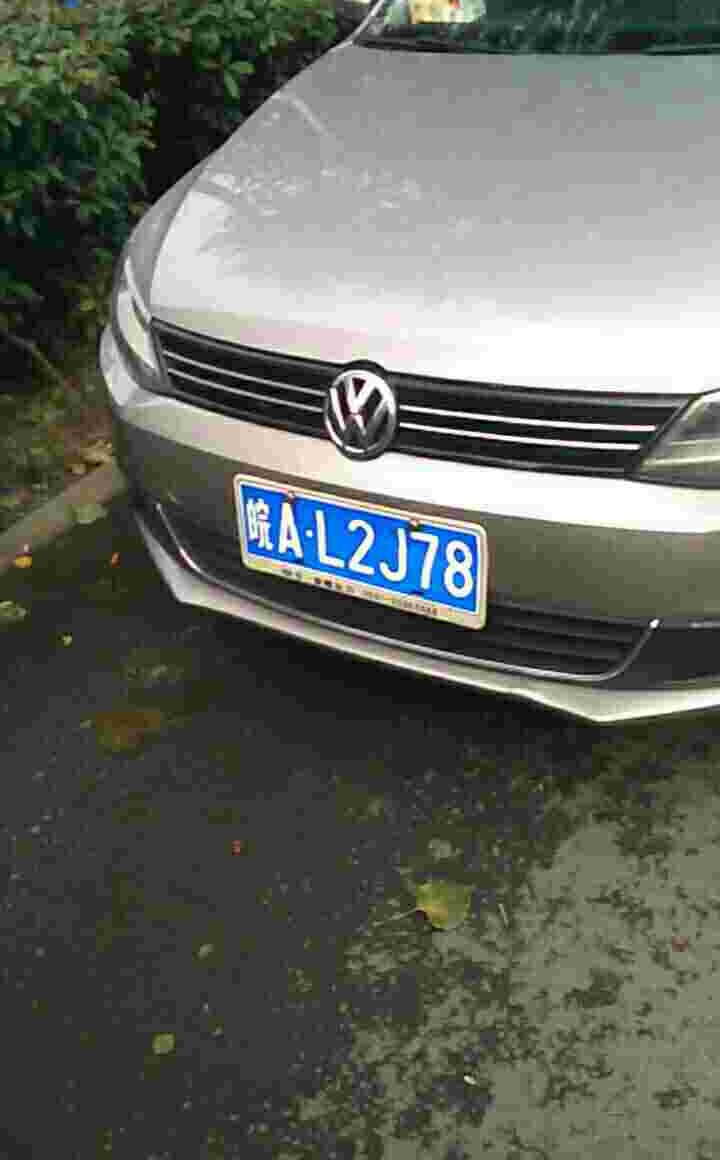license_plate: (248, 478, 486, 608)
